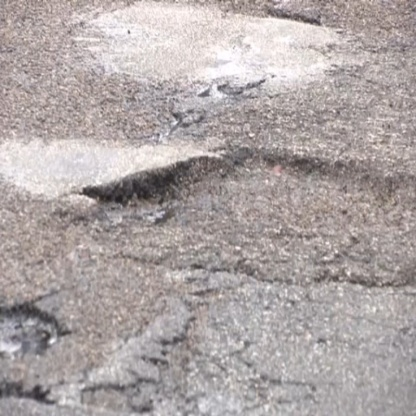pothole: (62, 123, 416, 265)
